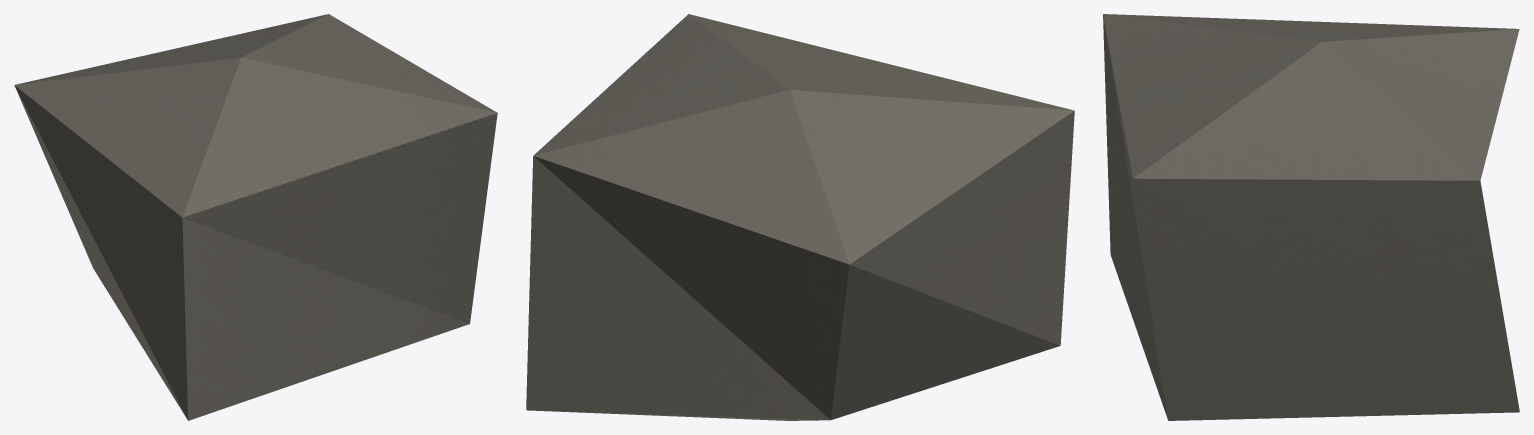
The model's file is Rock_Single_1B.fbx.
The picture shows the model from 3 angles, left to right: view 1: azimuth 30°, elevation 25°; view 2: azimuth 150°, elevation 25°; view 3: azimuth 270°, elevation 25°; orthographic projection. The views are drawn at different scales.
Parts seen in each view (by area): view 1: pCube19; view 2: pCube19; view 3: pCube19.
Part boxes in pixels (<box>): pCube19: <box>14,14,497,420</box>; pCube19: <box>526,14,1074,420</box>; pCube19: <box>1103,14,1519,420</box>.
Bounding box in the file's own units: 55.43 × 47.3 × 53.75.
Materials: 1 (1 with a texture image).
